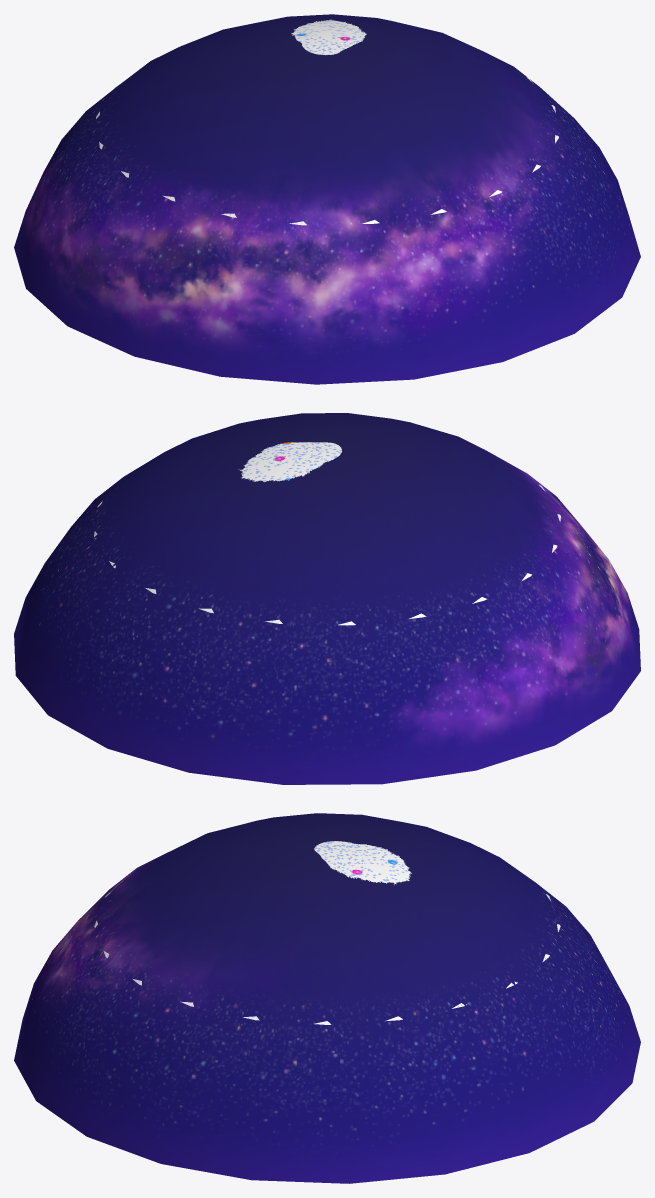
The model's file is sb_obj_sky_MilkyWay.fbx.
3 views of the same model, one above another, from view 1: azimuth 30°, elevation 25°; view 2: azimuth 150°, elevation 25°; view 3: azimuth 270°, elevation 25° (orthographic).
Visible parts, largest first — view 1: sky, sky.001; view 2: sky, sky.001; view 3: sky, sky.001.
Boxes of the visible parts, <box> form: sky: <box>14,14,640,384</box>; sky.001: <box>96,19,558,225</box>; sky: <box>14,413,640,784</box>; sky.001: <box>94,442,560,625</box>; sky: <box>14,813,640,1183</box>; sky.001: <box>94,841,560,1024</box>.
Size of the model in its own units: 985 by 356 by 985.
